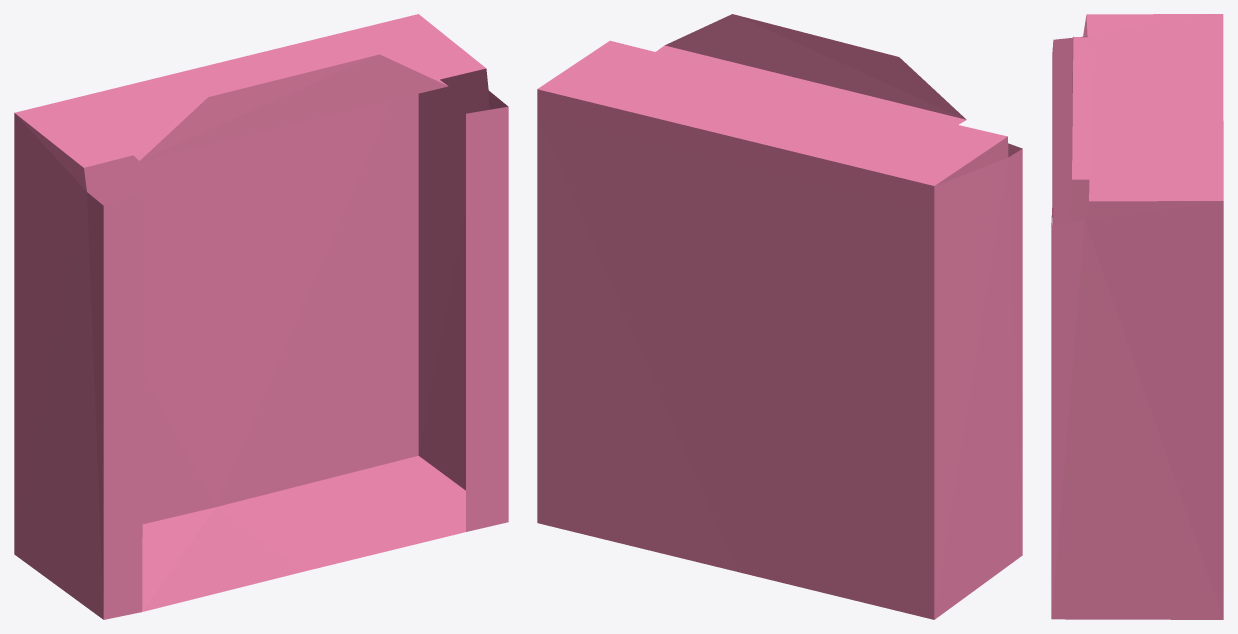
3 views of the same model, side by side, from view 1: azimuth 30°, elevation 25°; view 2: azimuth 150°, elevation 25°; view 3: azimuth 270°, elevation 25° (orthographic). The views are drawn at different scales.
Parts seen in each view (by area): view 1: s4studio_mesh_0.002; view 2: s4studio_mesh_0.002; view 3: s4studio_mesh_0.002.
Part boxes in pixels (x1,y1,x2,y2): s4studio_mesh_0.002: [14, 14, 508, 619]; s4studio_mesh_0.002: [537, 14, 1022, 619]; s4studio_mesh_0.002: [1051, 14, 1223, 619].
Size of the model in its own units: 1.33 by 1.52 by 0.5121.
1 material, 1 textured.
